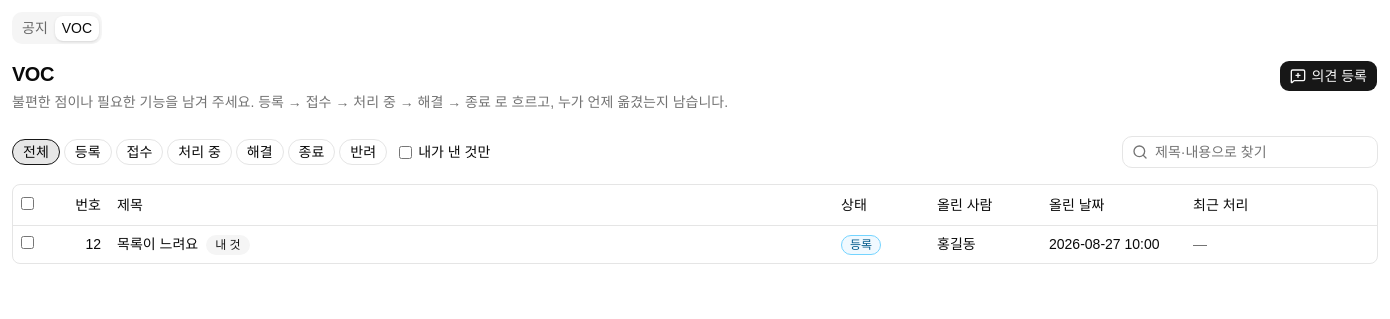
Test case: VOC 게시판 › 거른 결과가 없으면 「없다」 가 아니라 「조건에 맞는 것이 없다」 고 말한다
What coordinates should you click on to do the following:
click the button "반려"
I would click on:
 (363, 152)
Its box is [339,139,387,165].
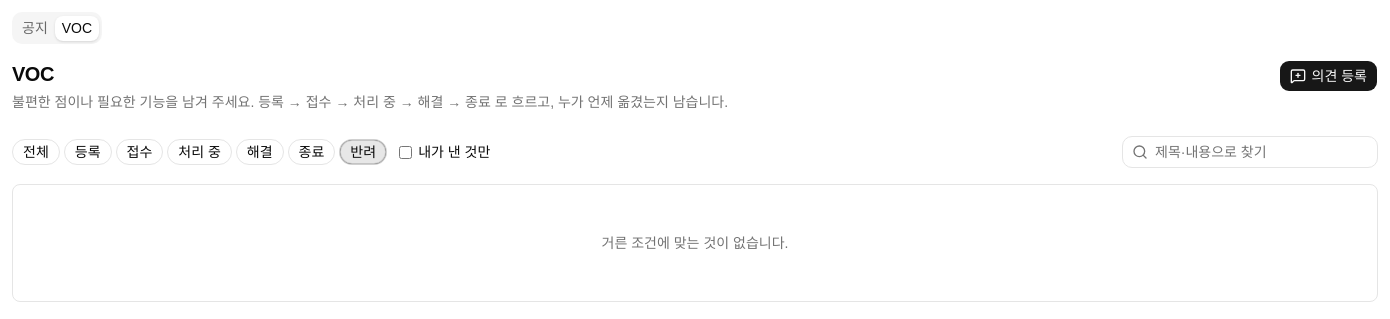
Expected: the text "거른 조건에 맞는 것이 없습니다." is shown, [12,184,1378,302]
